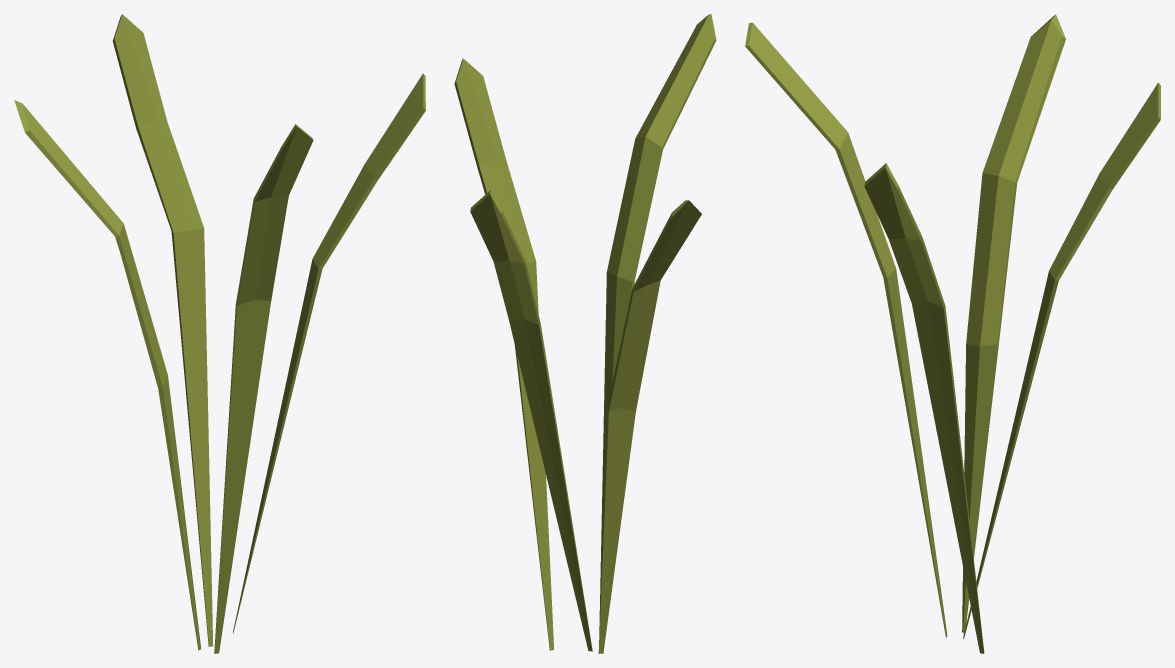
File: Reed_6.fbx
The picture shows the model from 3 angles, left to right: view 1: azimuth 30°, elevation 25°; view 2: azimuth 150°, elevation 25°; view 3: azimuth 270°, elevation 25°; orthographic projection. The views are drawn at different scales.
Parts seen in each view (by area): view 1: Reed_6; view 2: Reed_6; view 3: Reed_6.
Boxes of the visible parts, x1,y1,x2,y2 form: Reed_6: (14,14,425,653); Reed_6: (454,14,716,653); Reed_6: (745,14,1160,653).
Size of the model in its own units: 0.0134 by 0.0234 by 0.0146.
1 material, 1 textured.
